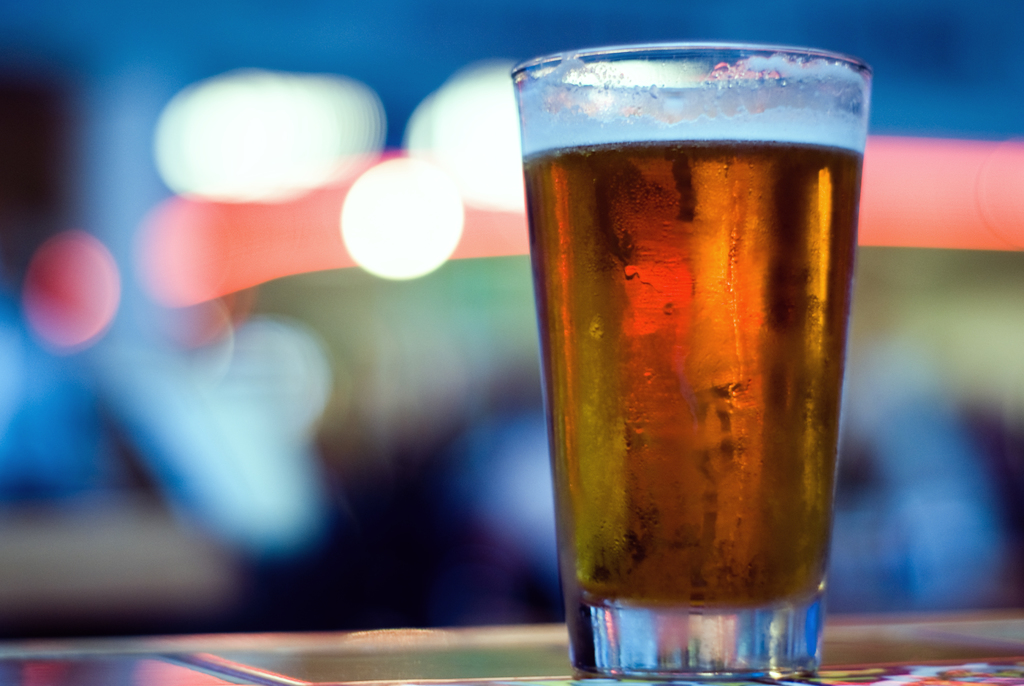Beer: (524, 133, 864, 681)
